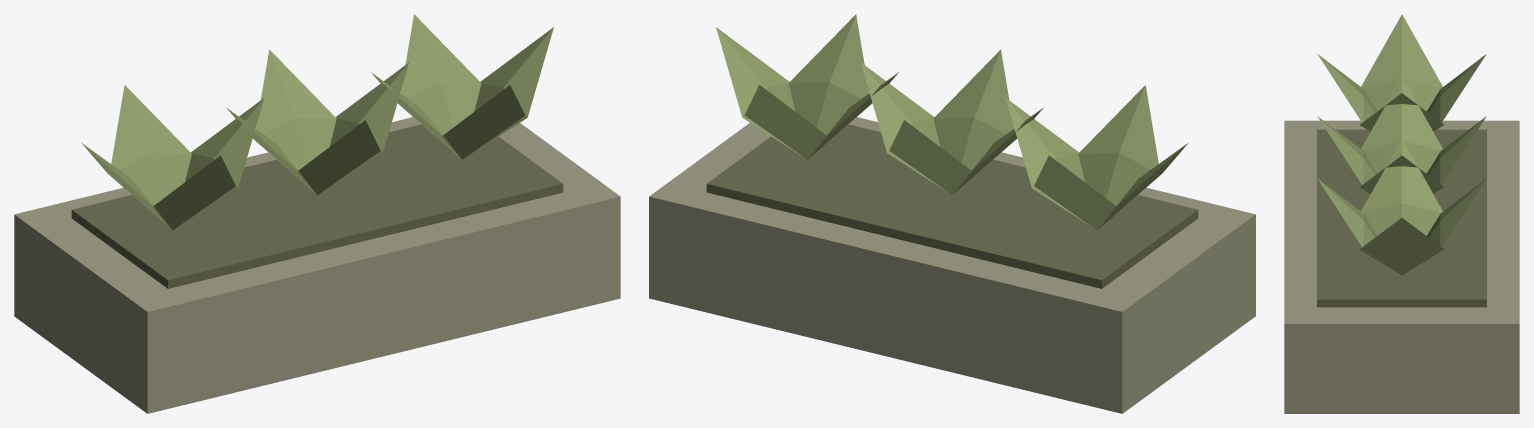
Rendered from map-exclusive-v3__farm_12.glb.
The picture shows the model from 3 angles, left to right: view 1: azimuth 30°, elevation 25°; view 2: azimuth 150°, elevation 25°; view 3: azimuth 270°, elevation 25°; orthographic projection. The views are drawn at different scales.
Parts seen in each view (by area): view 1: farm_12; view 2: farm_12; view 3: farm_12.
Part boxes in pixels (x1=…): farm_12: x1=14, y1=14, x2=620, y2=413; farm_12: x1=649, y1=14, x2=1255, y2=413; farm_12: x1=1284, y1=14, x2=1519, y2=413.
Size of the model in its own units: 1.7 by 0.765 by 0.83.
